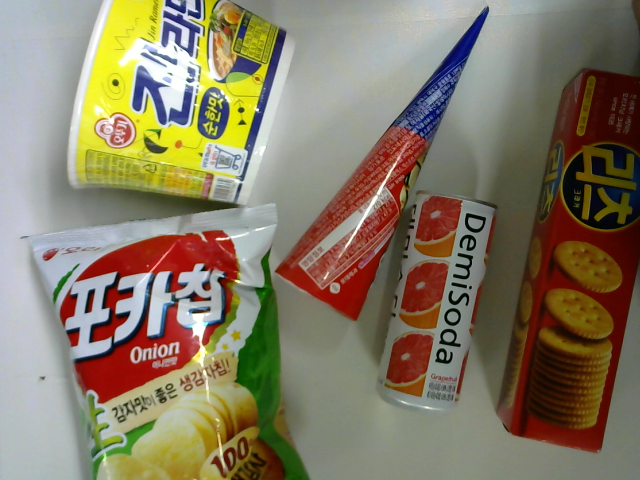Demisoda_Grapefruit_Can_250ml: (367, 185, 505, 418)
Jinlamyeon_Mild_Taste_Large_Cup: (63, 1, 304, 210)
Pocachip_Onion: (17, 194, 319, 480)
Ritz_Cracker: (493, 58, 640, 459)
World_Cone_Banila: (270, 1, 507, 327)
